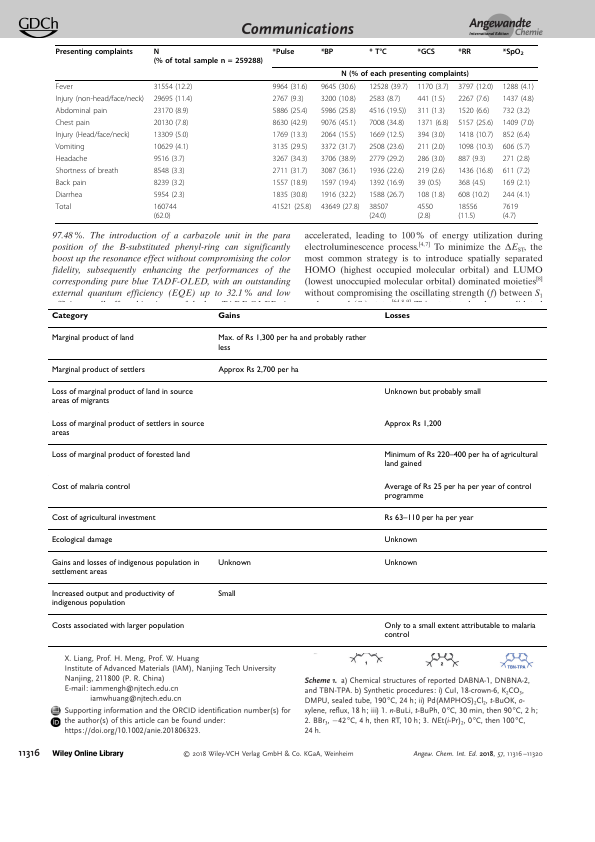borderless: (47, 307, 547, 646), (54, 43, 538, 223)
cell: (50, 419, 205, 438), (383, 450, 538, 469), (383, 621, 536, 640), (217, 334, 367, 353), (50, 558, 200, 577), (383, 482, 532, 501), (50, 387, 193, 406), (50, 589, 175, 608), (153, 47, 264, 65), (50, 450, 190, 460), (50, 621, 185, 631), (340, 69, 470, 79), (50, 513, 156, 523), (383, 387, 481, 397), (50, 365, 145, 375), (383, 513, 474, 523), (55, 94, 145, 104), (217, 365, 299, 375), (50, 482, 131, 492), (55, 130, 131, 140), (50, 334, 134, 343), (55, 47, 134, 56), (55, 166, 119, 176), (383, 419, 442, 429), (50, 536, 113, 545), (55, 106, 108, 116), (153, 202, 177, 220), (368, 82, 409, 92), (153, 82, 193, 92), (153, 94, 193, 104), (368, 106, 407, 116), (368, 202, 389, 220), (457, 202, 478, 220), (320, 82, 357, 92), (457, 82, 494, 92), (320, 94, 357, 104), (320, 106, 357, 116), (320, 118, 357, 128), (368, 118, 405, 128), (457, 118, 494, 128), (320, 130, 357, 140), (368, 130, 405, 140), (457, 130, 494, 140), (320, 142, 357, 152), (368, 142, 405, 152), (457, 142, 494, 152), (320, 154, 357, 164), (368, 154, 405, 164), (320, 166, 357, 176), (368, 166, 405, 176), (457, 166, 494, 176), (272, 82, 308, 92), (153, 106, 189, 116), (272, 106, 308, 116), (55, 118, 91, 128), (153, 118, 189, 128), (272, 118, 308, 128), (153, 130, 189, 140), (272, 130, 308, 140), (153, 142, 189, 152), (272, 142, 308, 152), (272, 154, 308, 164), (272, 166, 308, 176), (272, 202, 312, 211), (320, 202, 360, 211), (383, 558, 418, 568), (50, 312, 88, 321), (217, 558, 251, 568), (320, 178, 357, 187), (368, 178, 405, 187), (320, 190, 357, 199), (368, 190, 405, 199), (416, 82, 449, 92), (502, 82, 535, 92), (272, 94, 305, 104), (368, 94, 401, 104), (457, 94, 490, 104), (502, 94, 535, 104), (457, 106, 490, 116), (416, 118, 449, 128), (502, 118, 535, 128), (55, 154, 88, 164), (153, 154, 186, 164), (153, 166, 186, 176), (272, 178, 308, 187), (272, 190, 308, 199), (416, 202, 434, 220), (383, 536, 418, 545), (502, 202, 519, 220), (416, 94, 446, 104), (416, 106, 446, 116), (416, 130, 446, 140), (55, 142, 85, 152), (416, 142, 446, 152), (416, 154, 446, 164), (416, 166, 446, 176), (153, 178, 186, 187), (153, 190, 186, 199), (457, 190, 490, 199), (502, 106, 531, 116), (502, 130, 531, 140), (502, 142, 531, 152), (457, 154, 486, 164), (502, 154, 531, 164), (502, 166, 531, 176), (55, 178, 87, 187), (416, 190, 446, 199), (457, 178, 486, 187), (502, 178, 531, 187), (502, 190, 531, 199), (55, 190, 83, 199), (383, 312, 410, 321), (416, 178, 442, 187), (502, 47, 525, 57), (272, 47, 295, 56), (217, 312, 240, 321), (55, 82, 74, 92), (217, 589, 236, 599), (368, 47, 388, 56), (416, 47, 436, 56), (55, 202, 72, 211), (457, 47, 472, 56), (320, 47, 334, 56)
